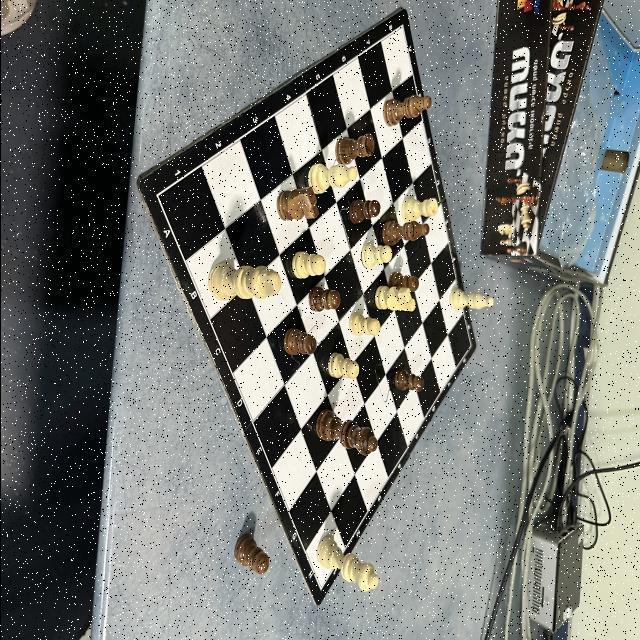Black-Bishop: (382, 94, 431, 128), (381, 220, 428, 244)
Black-Knight: (276, 186, 318, 222)
Black-Pawn: (233, 533, 269, 575), (283, 328, 316, 356), (348, 199, 380, 225), (308, 286, 340, 312), (393, 368, 423, 391), (388, 272, 418, 292)
Black-Queen: (315, 408, 377, 456)
Black-Rook: (334, 133, 374, 164)
White-Bishop: (306, 162, 356, 190), (448, 288, 493, 310)
White-King: (207, 262, 281, 300)
White-Knight: (373, 288, 415, 312)
White-Pawn: (291, 251, 325, 280), (326, 352, 358, 380), (359, 244, 392, 268), (348, 313, 380, 337)
White-Queen: (316, 536, 378, 592)
White-Rook: (400, 198, 438, 222)
